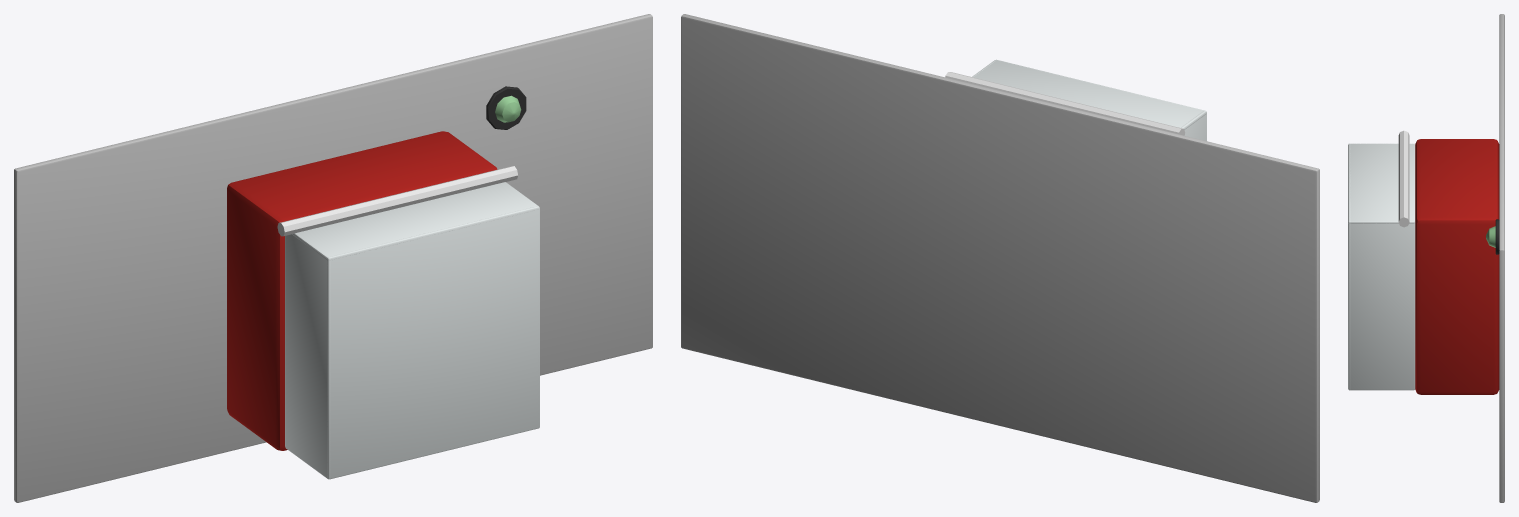
File: Kit_EPOStation.fbx
The picture shows the model from 3 angles, left to right: view 1: azimuth 30°, elevation 25°; view 2: azimuth 150°, elevation 25°; view 3: azimuth 270°, elevation 25°; orthographic projection. The views are drawn at different scales.
Parts seen in each view (by area): view 1: Kit_EPOStation_LOD0; view 2: Kit_EPOStation_LOD0; view 3: Kit_EPOStation_LOD0.
Part boxes in pixels (x1,y1,x2,y2): Kit_EPOStation_LOD0: (14,14,652,502); Kit_EPOStation_LOD0: (681,14,1319,502); Kit_EPOStation_LOD0: (1348,14,1504,502).
Size of what is drawn, in the model's own units: 0.3 by 0.15 by 0.084.
